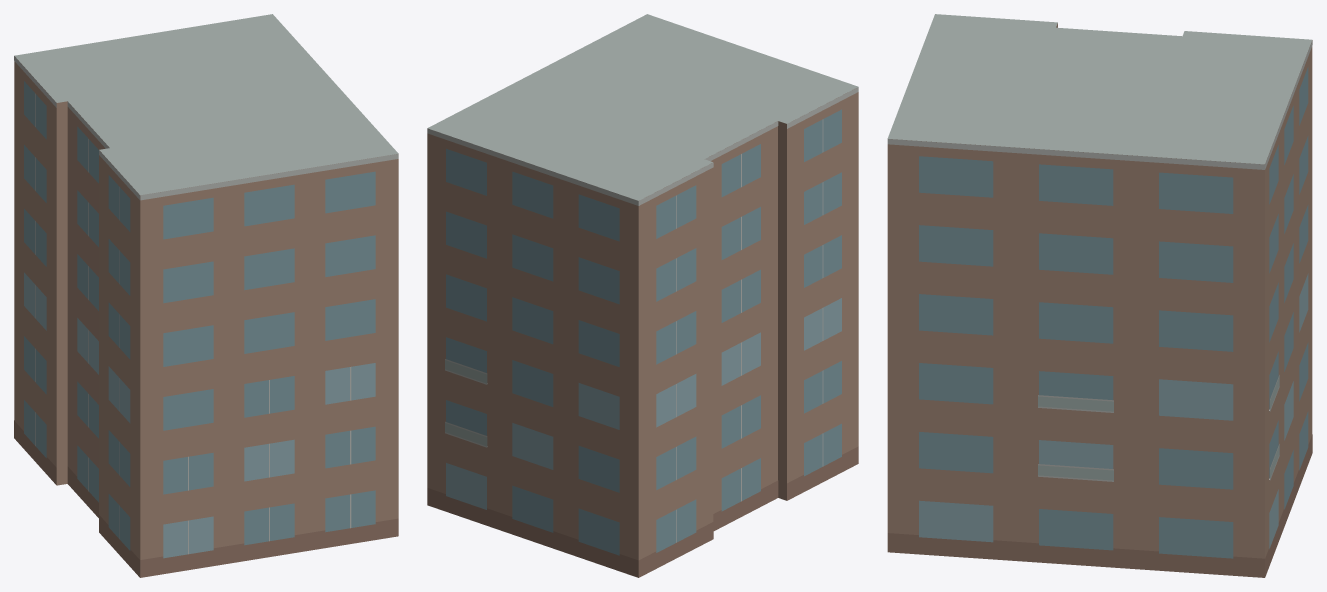
The model's file is survey-upis-33045186.glb.
3 views of the same model, side by side, from view 1: azimuth 30°, elevation 25°; view 2: azimuth 150°, elevation 25°; view 3: azimuth 270°, elevation 25° (orthographic). The views are drawn at different scales.
Visible parts, largest first — view 1: survey-upis-33045186.tmp; view 2: survey-upis-33045186.tmp; view 3: survey-upis-33045186.tmp.
Boxes of the visible parts, x1,y1,x2,y2 form: survey-upis-33045186.tmp: (14, 14, 398, 577); survey-upis-33045186.tmp: (427, 14, 858, 577); survey-upis-33045186.tmp: (887, 14, 1312, 577).
Size of the model in its own units: 14.13 by 18.1 by 16.87.
